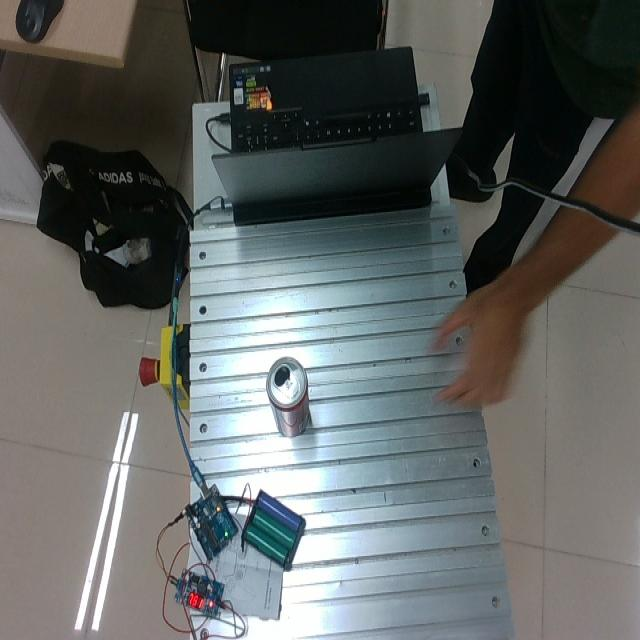coca: (266, 355, 310, 436)
